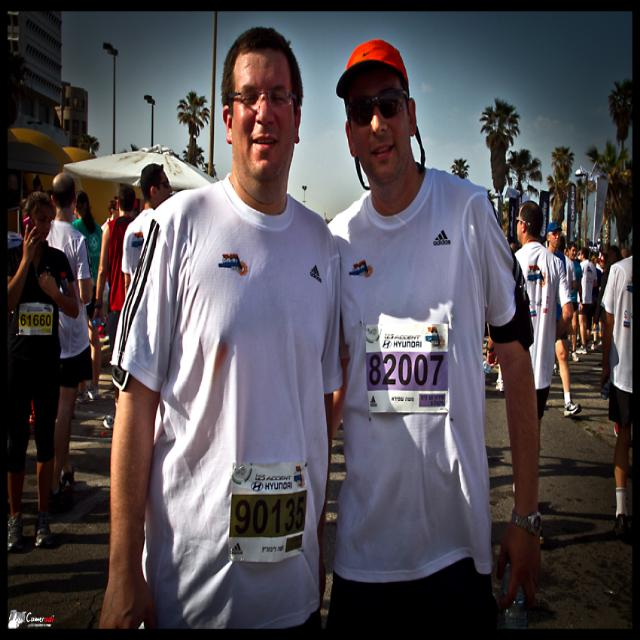Bib: (228, 496, 309, 540), (367, 356, 447, 390)
